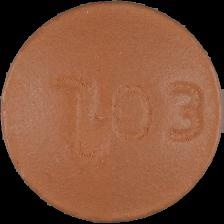67544-253: (0, 0, 224, 224)
